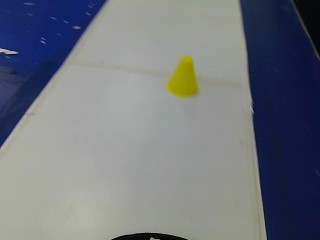cone: (164, 54, 203, 97)
